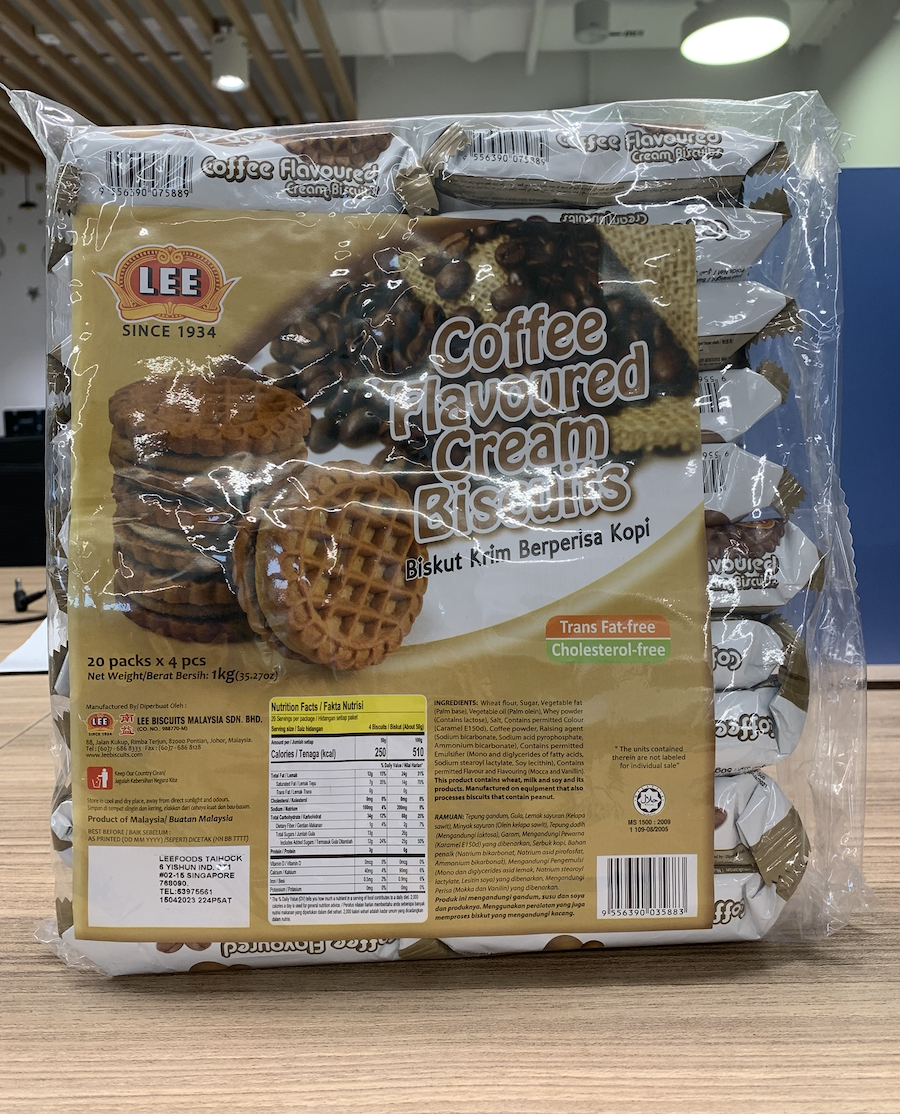cookies_1kg-1.99kg: (75, 134, 808, 946)
